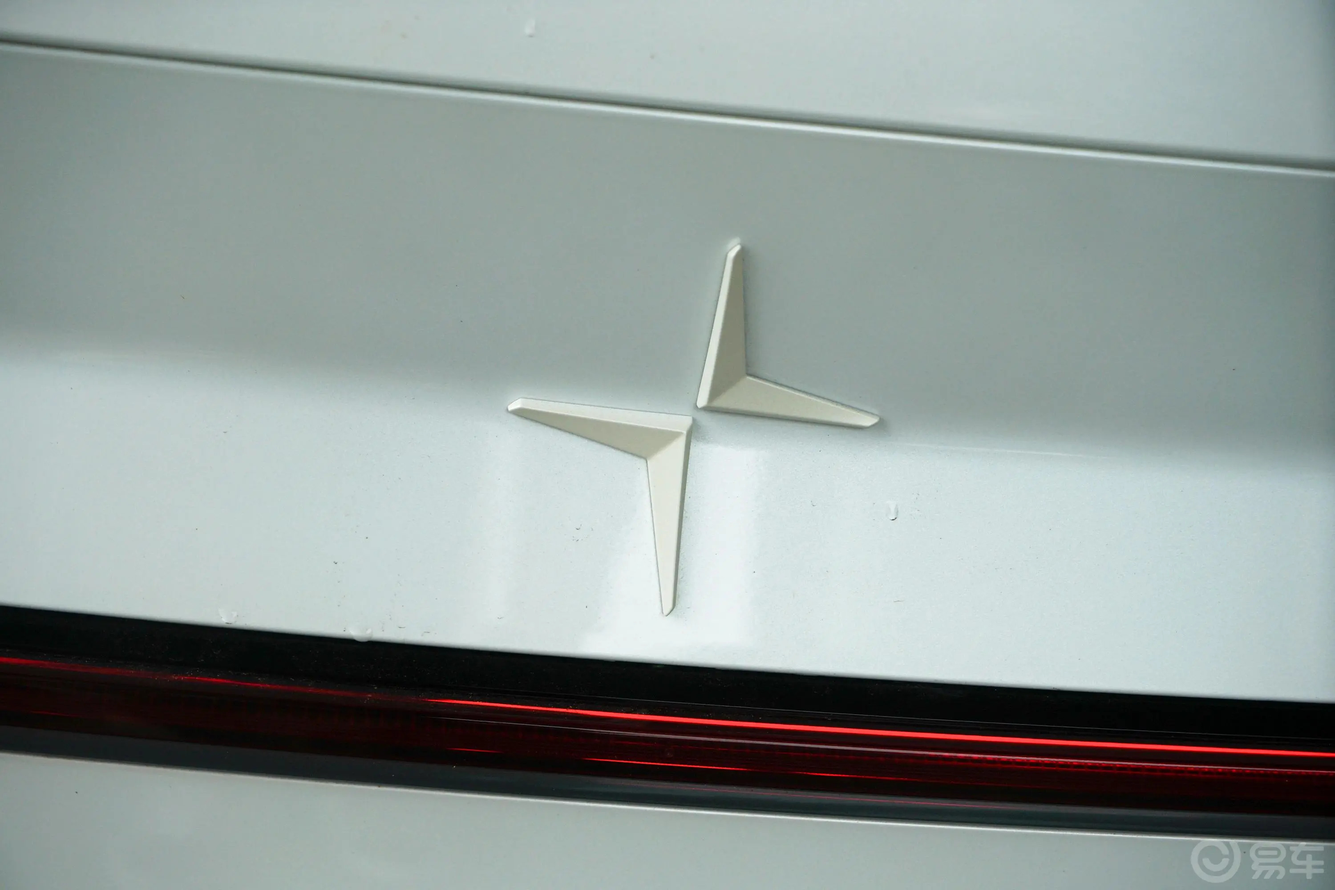Polestar: (508, 244, 878, 615)
